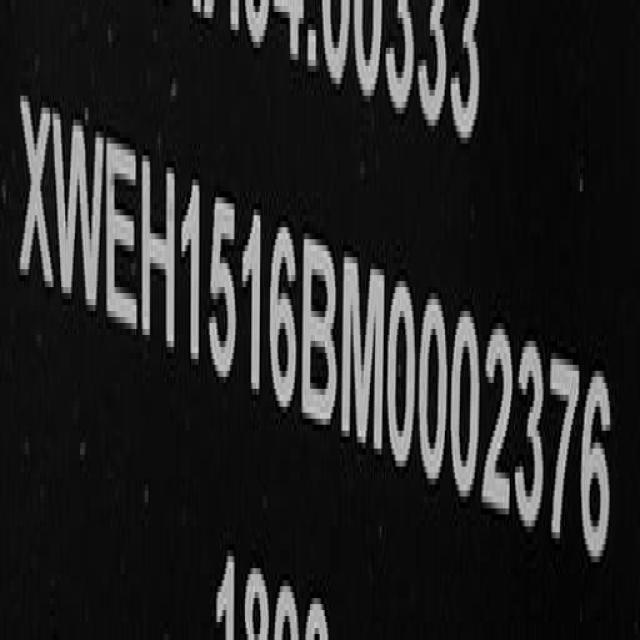0: (446, 303, 481, 503), (386, 268, 416, 483), (416, 290, 449, 481)
1: (241, 206, 265, 408), (181, 175, 204, 381)
2: (513, 328, 547, 538), (482, 323, 513, 523)
5: (208, 178, 238, 394)
6: (580, 350, 616, 574), (268, 224, 297, 416)
7: (548, 341, 582, 561)
B: (300, 223, 339, 448)
E: (104, 129, 140, 350)
H: (141, 146, 178, 370)
M: (340, 257, 386, 465)
W: (52, 93, 106, 326)
X: (18, 84, 56, 319)
